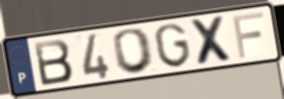4: (80, 31, 112, 81)
B: (31, 37, 75, 88)
F: (230, 10, 266, 60)
G: (152, 21, 194, 69)
O: (111, 26, 157, 76)
X: (188, 14, 237, 67)
